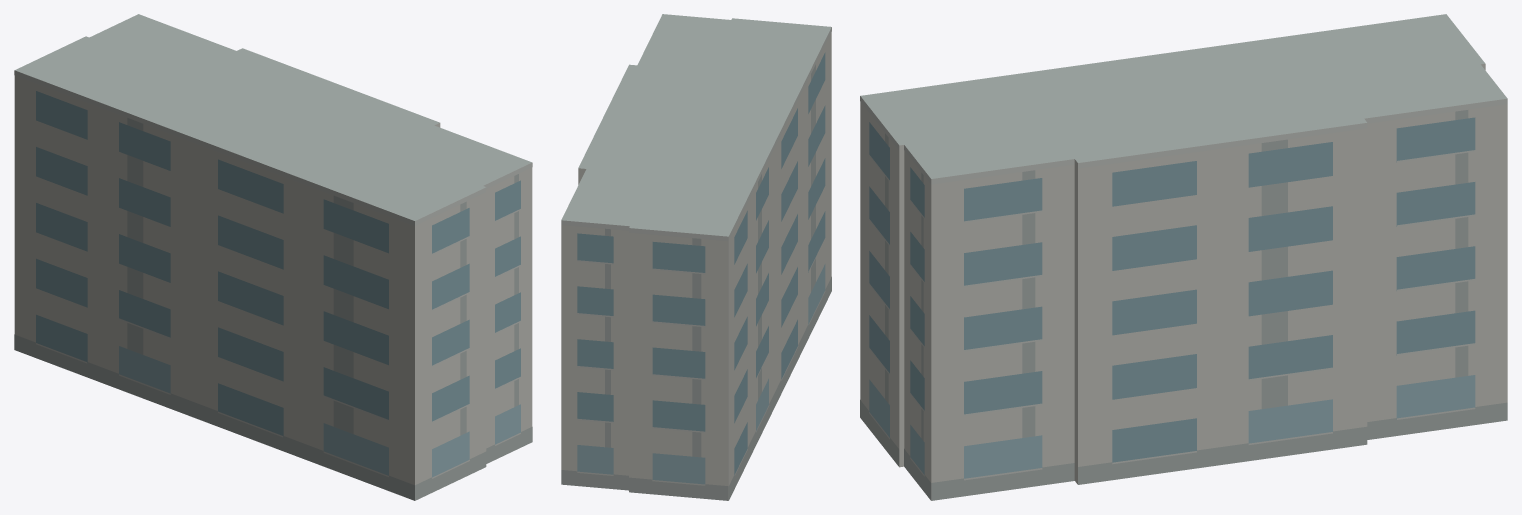
Rendered from survey-upis-32999174.glb.
The picture shows the model from 3 angles, left to right: view 1: azimuth 30°, elevation 25°; view 2: azimuth 150°, elevation 25°; view 3: azimuth 270°, elevation 25°; orthographic projection. The views are drawn at different scales.
Visible parts, largest first — view 1: survey-upis-32999174.tmp; view 2: survey-upis-32999174.tmp; view 3: survey-upis-32999174.tmp.
Part boxes in pixels (<box>): survey-upis-32999174.tmp: <box>14,14,532,500</box>; survey-upis-32999174.tmp: <box>561,14,831,500</box>; survey-upis-32999174.tmp: <box>860,14,1507,500</box>.
Bounding box in the file's own units: 15.3 × 13.9 × 25.35.
